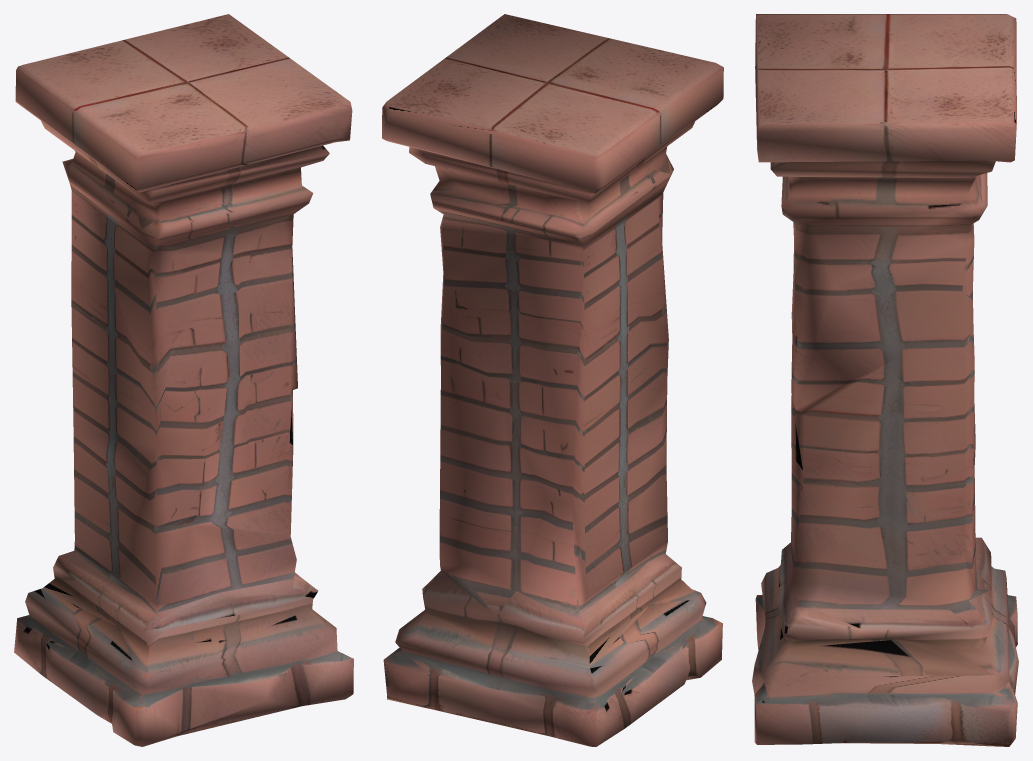
File: Old Brck Colum.fbx
3 views of the same model, side by side, from view 1: azimuth 30°, elevation 25°; view 2: azimuth 150°, elevation 25°; view 3: azimuth 270°, elevation 25° (orthographic). The views are drawn at different scales.
Visible parts, largest first — view 1: tripo_node_84995b1c; view 2: tripo_node_84995b1c; view 3: tripo_node_84995b1c.
Boxes of the visible parts, bbox=[...] form: tripo_node_84995b1c: bbox=[14, 14, 353, 746]; tripo_node_84995b1c: bbox=[382, 14, 723, 746]; tripo_node_84995b1c: bbox=[752, 14, 1018, 746].
Size of the model in its own units: 38.52 by 99.89 by 38.57.
1 material, 1 textured.
